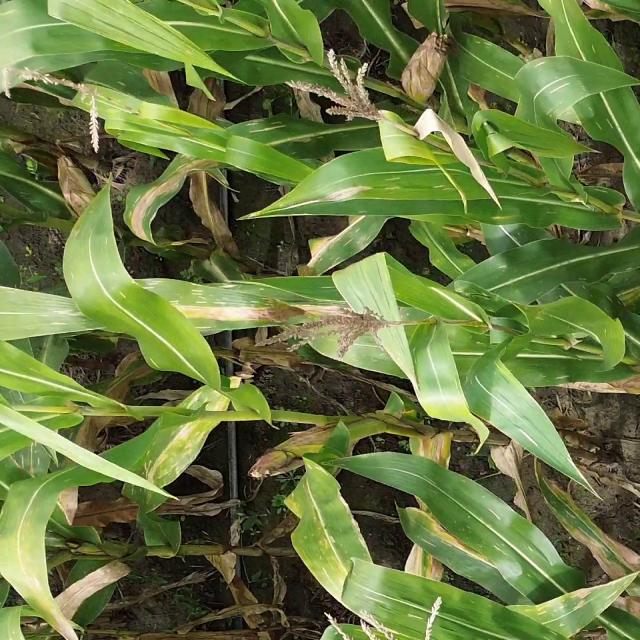gray-leaf-spot: (146, 401, 205, 484), (456, 502, 538, 556), (533, 584, 608, 632), (141, 277, 250, 307), (526, 59, 576, 120), (245, 116, 339, 148), (19, 294, 97, 332), (366, 172, 476, 195), (574, 274, 624, 317), (320, 227, 374, 263), (102, 61, 147, 99), (12, 440, 56, 476), (410, 524, 458, 556), (584, 102, 622, 136), (464, 34, 511, 56)
northern-leaf-blight: (163, 294, 267, 336), (123, 168, 179, 238)
southern-leaf-blight: (301, 506, 356, 576)
